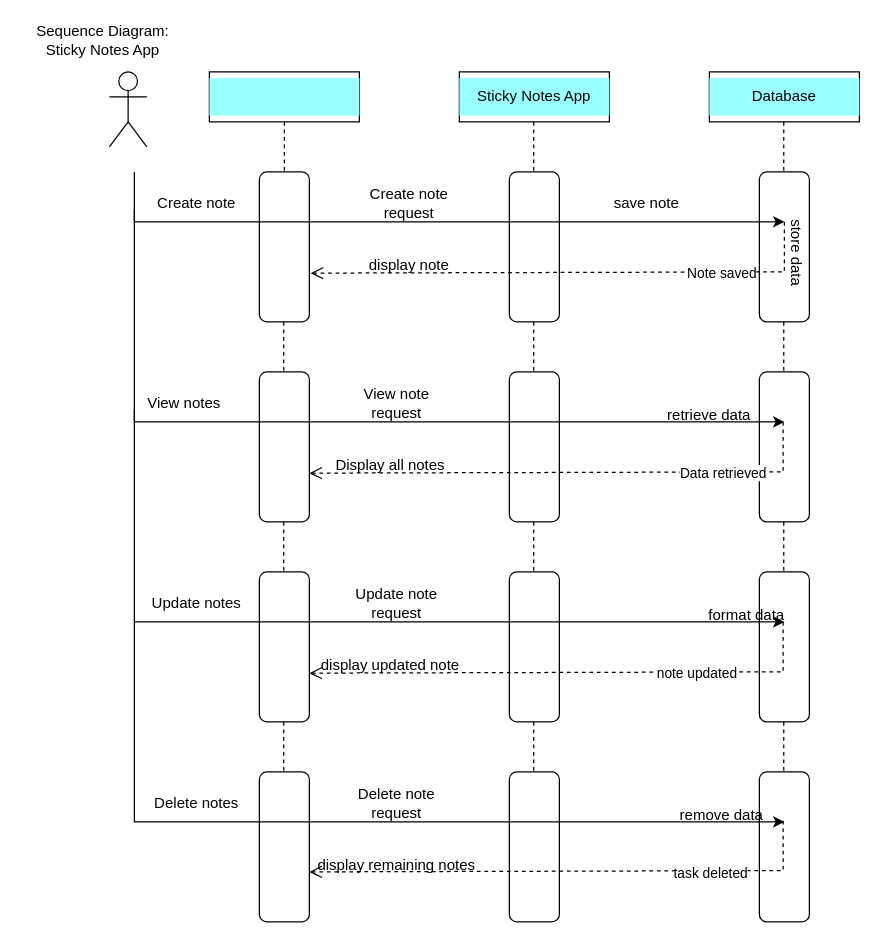
The diagram is 881 pixels wide and 944 high, and some of its shapes have lost their labels. Here are the shapes that lost their labels. From the top down, the box of each, then its label:
(108, 71, 147, 147): User
(209, 78, 359, 115): Browser
